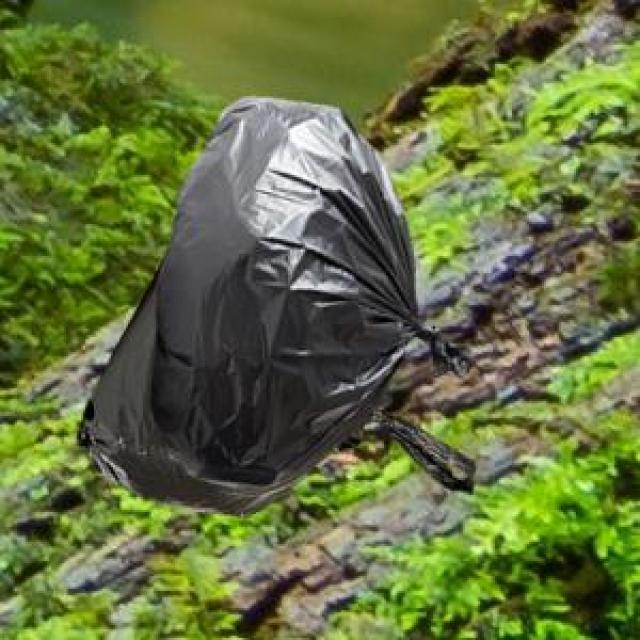Vinyl: (92, 96, 466, 500)
